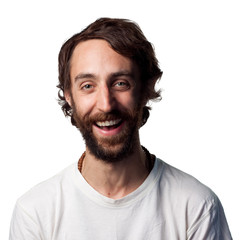young: (54, 13, 169, 160)
